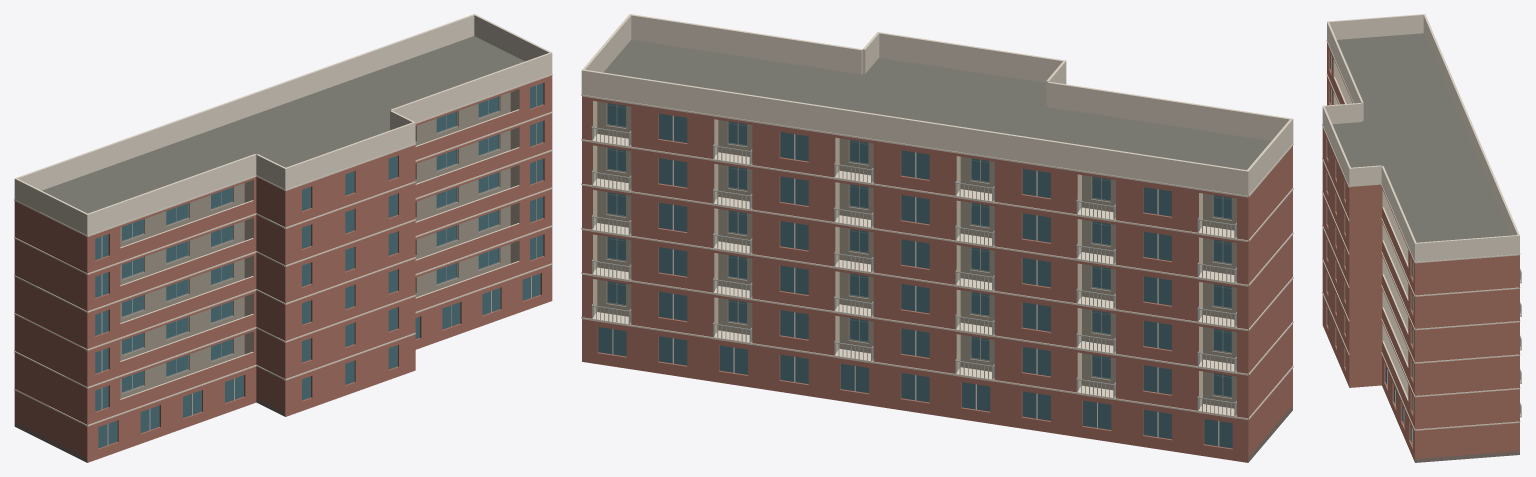
File: chunk-dorm-way-759191480.glb
3 views of the same model, side by side, from view 1: azimuth 30°, elevation 25°; view 2: azimuth 150°, elevation 25°; view 3: azimuth 270°, elevation 25° (orthographic). The views are drawn at different scales.
Parts seen in each view (by area): view 1: chunk-dorm-way-759191480; view 2: chunk-dorm-way-759191480; view 3: chunk-dorm-way-759191480.
Boxes of the visible parts, box(x1,y1,x2,y2) form: chunk-dorm-way-759191480: box(14, 14, 552, 462); chunk-dorm-way-759191480: box(581, 14, 1293, 462); chunk-dorm-way-759191480: box(1322, 14, 1521, 462).
Bounding box in the file's own units: 48.59 × 21.6 × 17.83.
